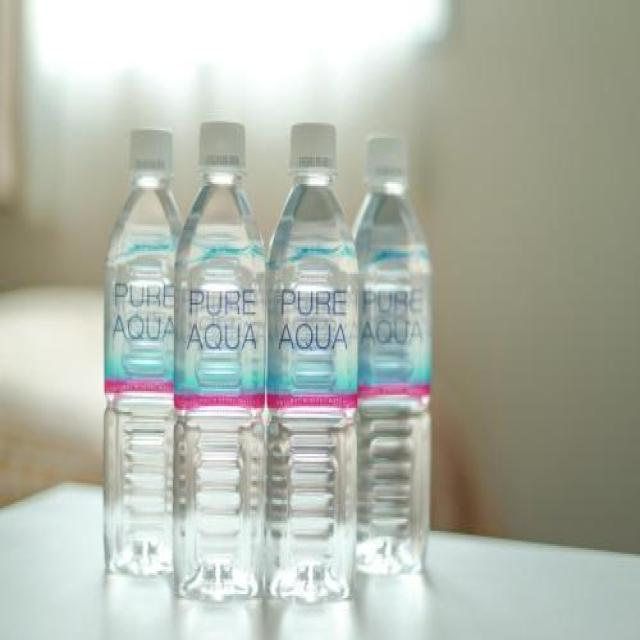bottle: (170, 114, 275, 610), (97, 117, 205, 594), (349, 115, 437, 586), (280, 110, 342, 618)
